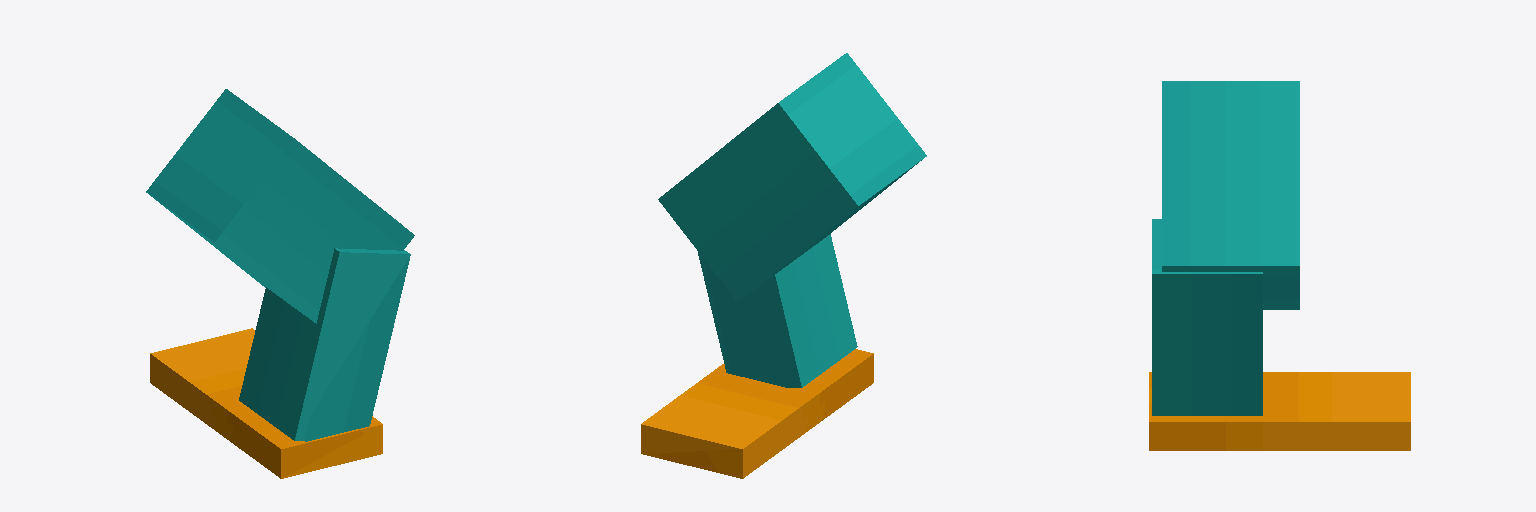
The picture shows the model from 3 angles: view 1: azimuth 30°, elevation 25°; view 2: azimuth 150°, elevation 25°; view 3: azimuth 270°, elevation 25°; orthographic projection.
Parts seen in each view (by area): view 1: e3a1bd99_f503_e4f9_4c8c_3d5791d1f6f0_Mesh_3, 6b0fb6d7_75a3_111e_e343_fd22adfb726e_Mesh_5, 76d96b28_3bbf_9c18_e74e_0c0cac054721_Mesh_4; view 2: e3a1bd99_f503_e4f9_4c8c_3d5791d1f6f0_Mesh_3, 76d96b28_3bbf_9c18_e74e_0c0cac054721_Mesh_4, 6b0fb6d7_75a3_111e_e343_fd22adfb726e_Mesh_5; view 3: e3a1bd99_f503_e4f9_4c8c_3d5791d1f6f0_Mesh_3, 6b0fb6d7_75a3_111e_e343_fd22adfb726e_Mesh_5, 76d96b28_3bbf_9c18_e74e_0c0cac054721_Mesh_4.
Part boxes in pixels (x1,y1,x2,y2): e3a1bd99_f503_e4f9_4c8c_3d5791d1f6f0_Mesh_3: (146,89,414,323); 6b0fb6d7_75a3_111e_e343_fd22adfb726e_Mesh_5: (239,248,410,441); 76d96b28_3bbf_9c18_e74e_0c0cac054721_Mesh_4: (150,328,382,478); e3a1bd99_f503_e4f9_4c8c_3d5791d1f6f0_Mesh_3: (658,53,926,302); 76d96b28_3bbf_9c18_e74e_0c0cac054721_Mesh_4: (641,349,873,478); 6b0fb6d7_75a3_111e_e343_fd22adfb726e_Mesh_5: (698,234,857,387); e3a1bd99_f503_e4f9_4c8c_3d5791d1f6f0_Mesh_3: (1162,81,1299,309); 6b0fb6d7_75a3_111e_e343_fd22adfb726e_Mesh_5: (1152,219,1262,415); 76d96b28_3bbf_9c18_e74e_0c0cac054721_Mesh_4: (1149,372,1410,450).
Bounding box in the file's own units: 7.07 × 11.13 × 8.
Materials: 1 (1 with a texture image).